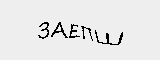А: (51, 20, 69, 39)
Е: (69, 22, 80, 40)
З: (35, 21, 51, 42)
П: (79, 25, 95, 43)
Ш: (93, 29, 126, 46)
